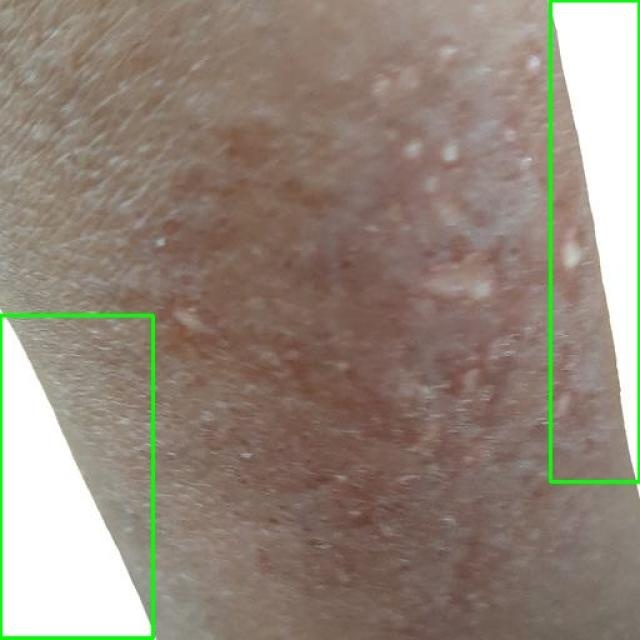Atopic Dermatitis: (0, 315, 154, 639), (550, 0, 639, 481)
